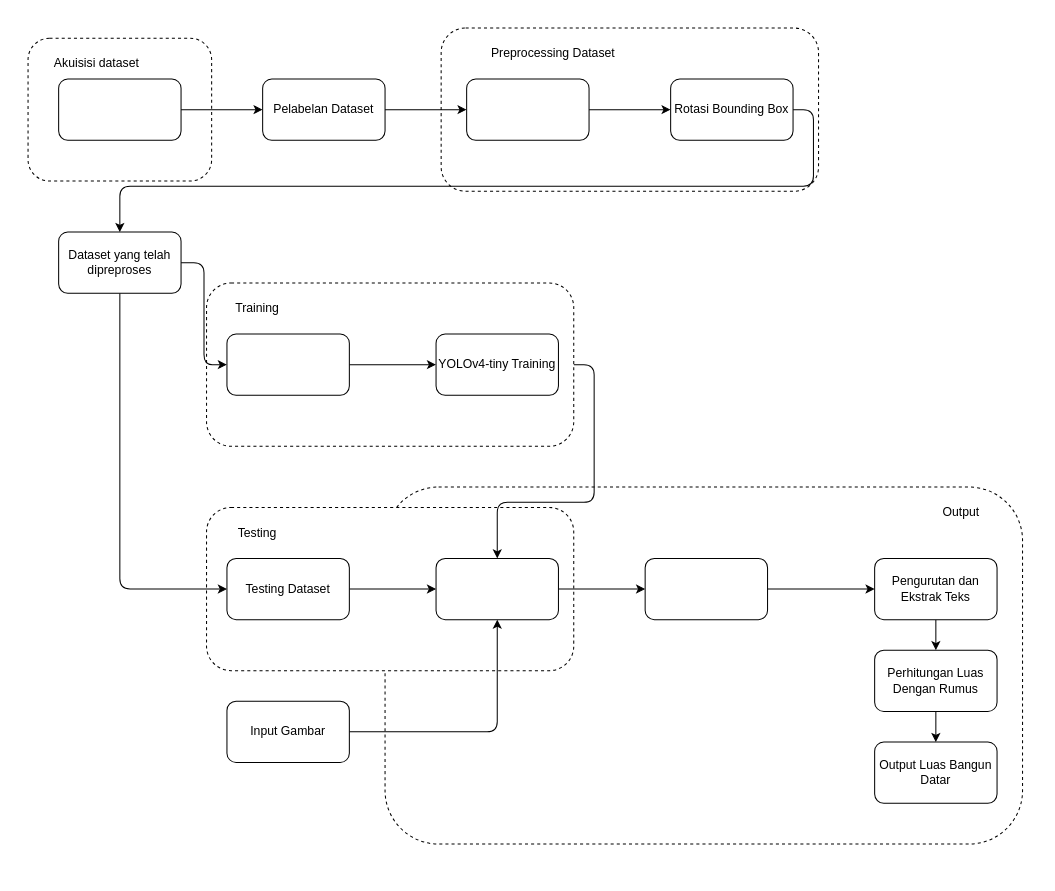
This 1055x891 diagram has some shape labels left out. Each missing label, with the centre of its shape:
Deteksi Objek: (706,588)
Gambar Tulisan Tangan: (119,109)
Resize: (527,109)
Training Dataset: (287,364)
Weight (Bobot): (496,588)
